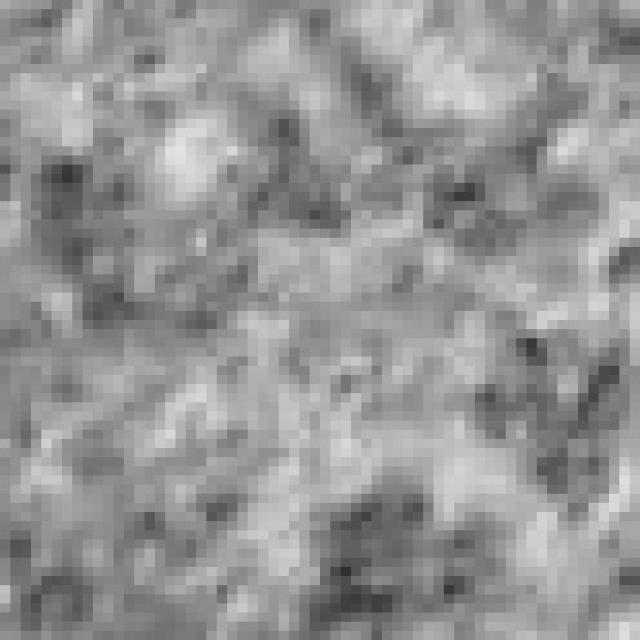inner: (260, 233, 521, 443)
lobe: (214, 11, 441, 232), (52, 364, 292, 572), (17, 155, 264, 356), (418, 41, 613, 266), (299, 468, 518, 639), (465, 324, 640, 533)
outer: (0, 1, 640, 640)
